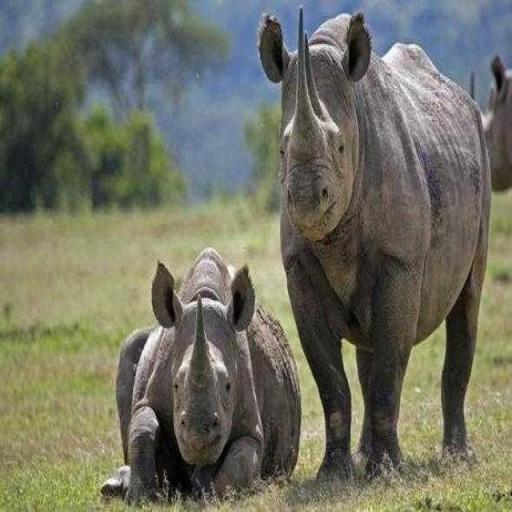Rhino: (255, 4, 492, 482), (100, 244, 302, 505)
